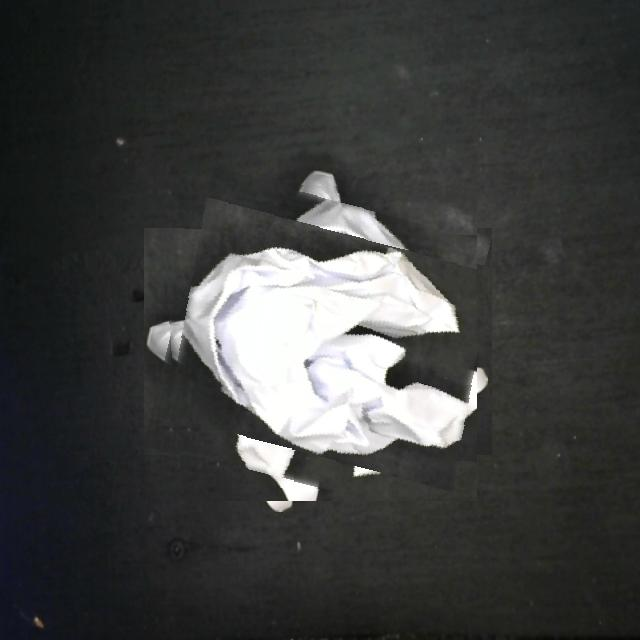biodegradable: (159, 182, 477, 501)
